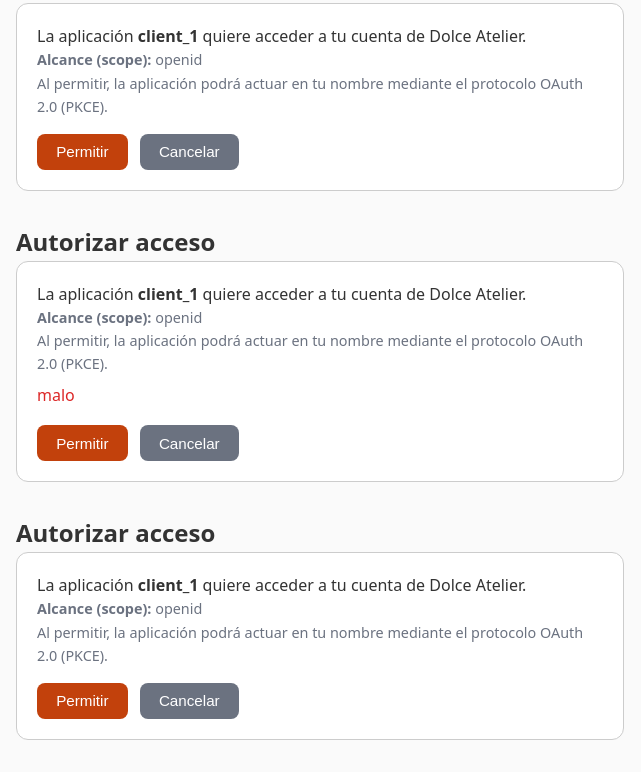
Test case: McpAuthorizePage › shows an error when no clerk token is available
(page scrolled)
Click the 3rd button "Permitir".
click(82, 701)  # box [37, 683, 128, 719]
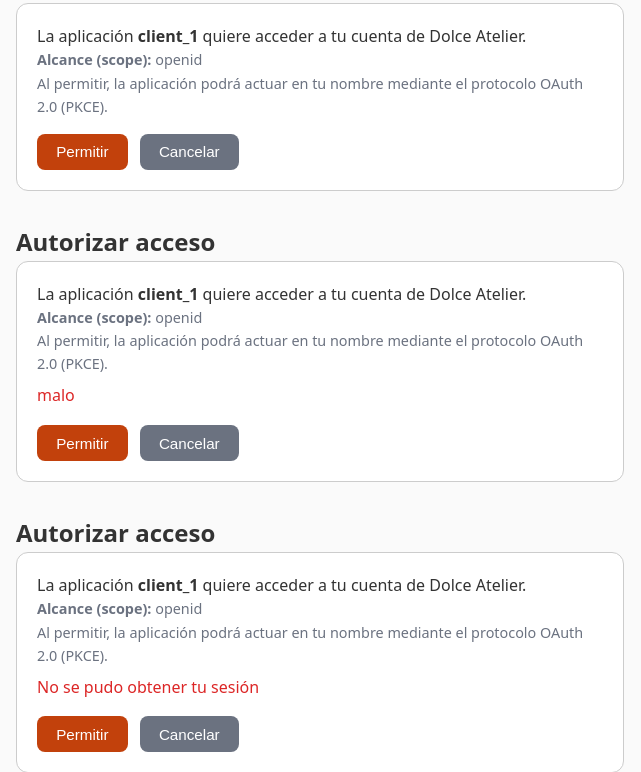
Check: the text "No se pudo obtener tu sesión" is shown, box [37, 676, 259, 698]
